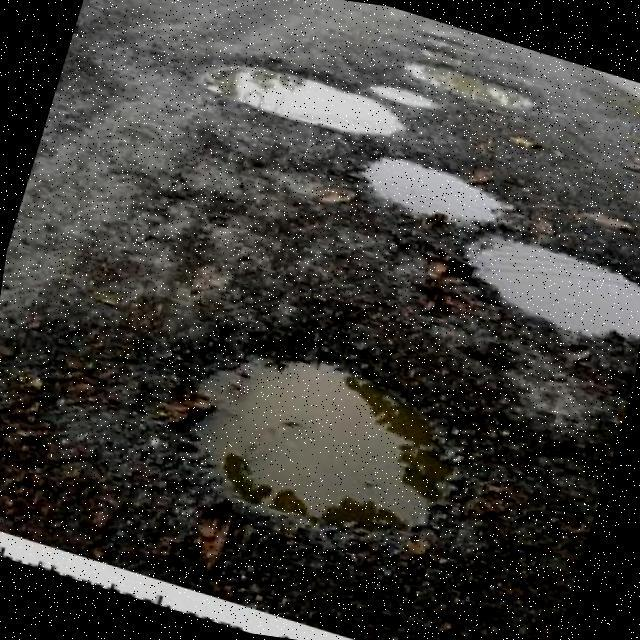Pothole: (187, 357, 452, 538), (471, 238, 640, 342), (201, 67, 404, 138), (365, 158, 504, 226), (404, 64, 538, 112), (362, 86, 441, 111)
